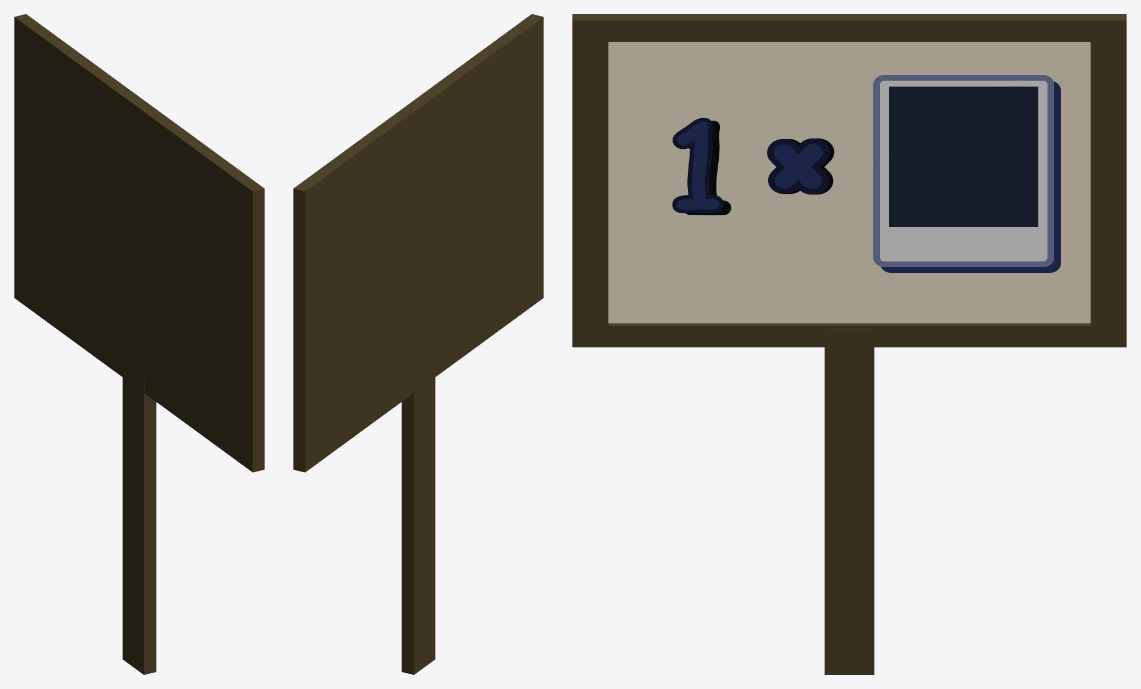
The model's file is onephoto.fbx.
The picture shows the model from 3 angles, left to right: view 1: azimuth 30°, elevation 25°; view 2: azimuth 150°, elevation 25°; view 3: azimuth 270°, elevation 25°; orthographic projection. The views are drawn at different scales.
Parts seen in each view (by area): view 1: Cube, Cube.001; view 2: Cube, Cube.001; view 3: Cube, Cube.001.
Part boxes in pixels (x1,y1,x2,y2): Cube: (14, 14, 264, 472); Cube.001: (122, 362, 156, 674); Cube: (293, 14, 543, 472); Cube.001: (401, 362, 435, 674); Cube: (572, 14, 1126, 347); Cube.001: (824, 329, 874, 674).
Bounding box in the file's own units: 21.92 × 957 × 735.
